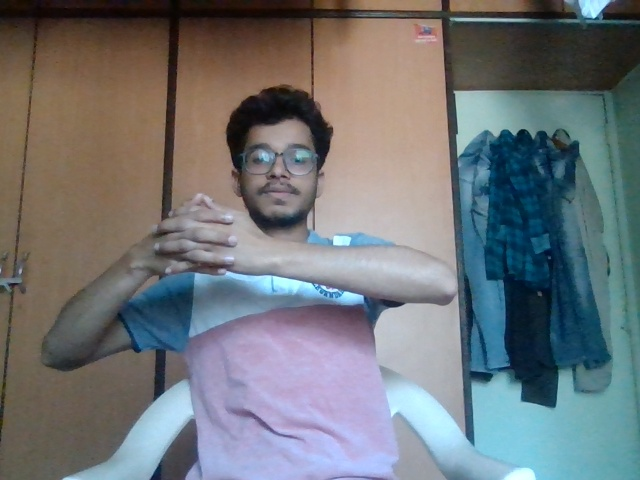good: (140, 181, 282, 288)
